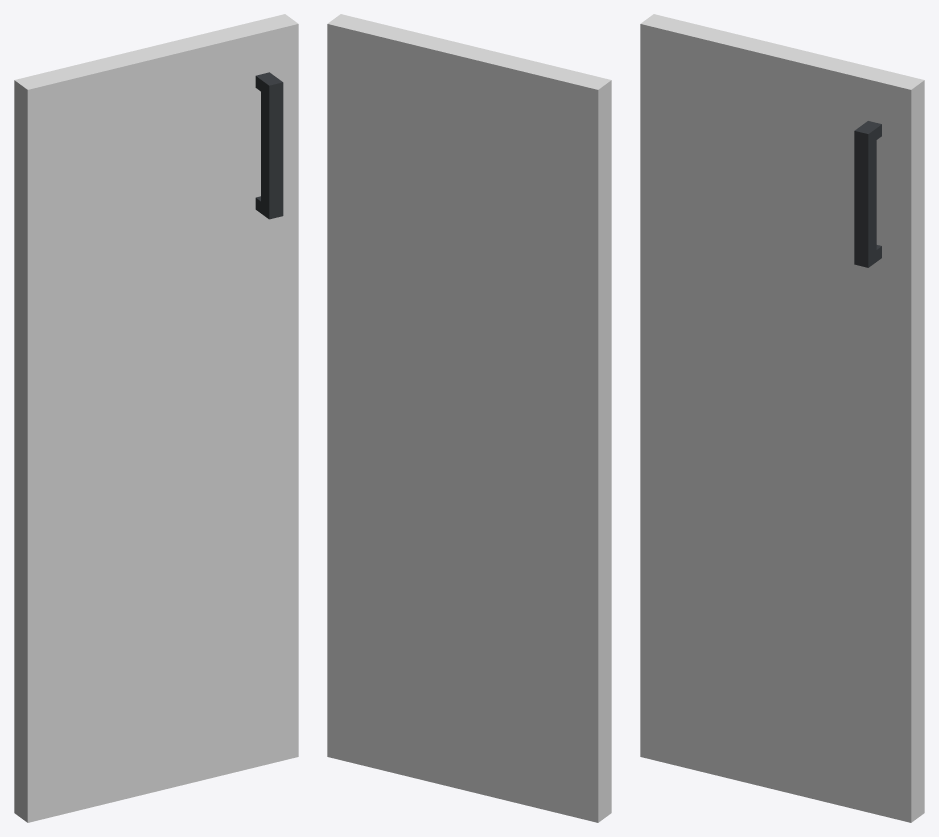
Rendered from Door1_C1_04.fbx.
3 views of the same model, side by side, from view 1: azimuth 30°, elevation 25°; view 2: azimuth 150°, elevation 25°; view 3: azimuth 330°, elevation 25° (orthographic).
Parts seen in each view (by area): view 1: Door1_C1_04; view 2: Door1_C1_04; view 3: Door1_C1_04.
Boxes of the visible parts, bbox=[...] form: Door1_C1_04: bbox=[14, 14, 298, 822]; Door1_C1_04: bbox=[327, 14, 611, 822]; Door1_C1_04: bbox=[640, 14, 924, 822].
Bounding box in the file's own units: 29 × 75 × 5.03.
